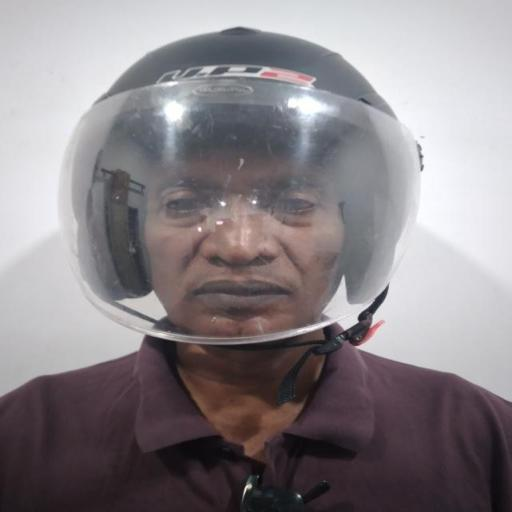with helmet: (56, 26, 428, 348)
